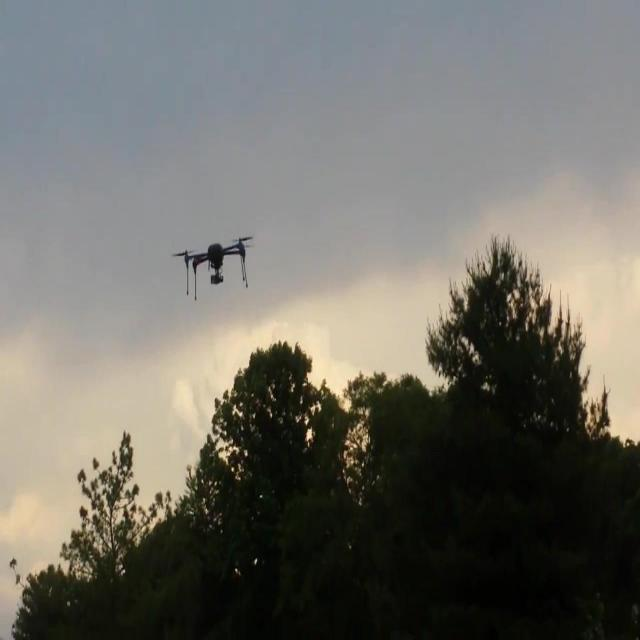UAV: (158, 236, 254, 302)
